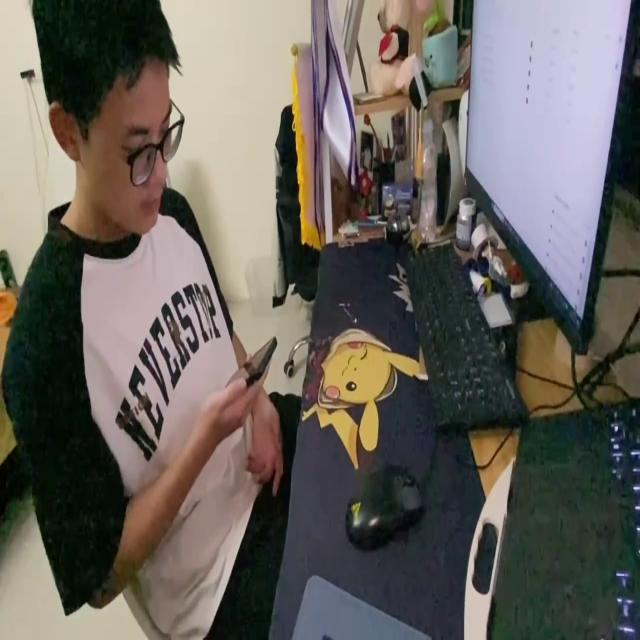laptop: (461, 0, 640, 357)
phone: (220, 335, 279, 390)
student: (1, 0, 289, 640)
